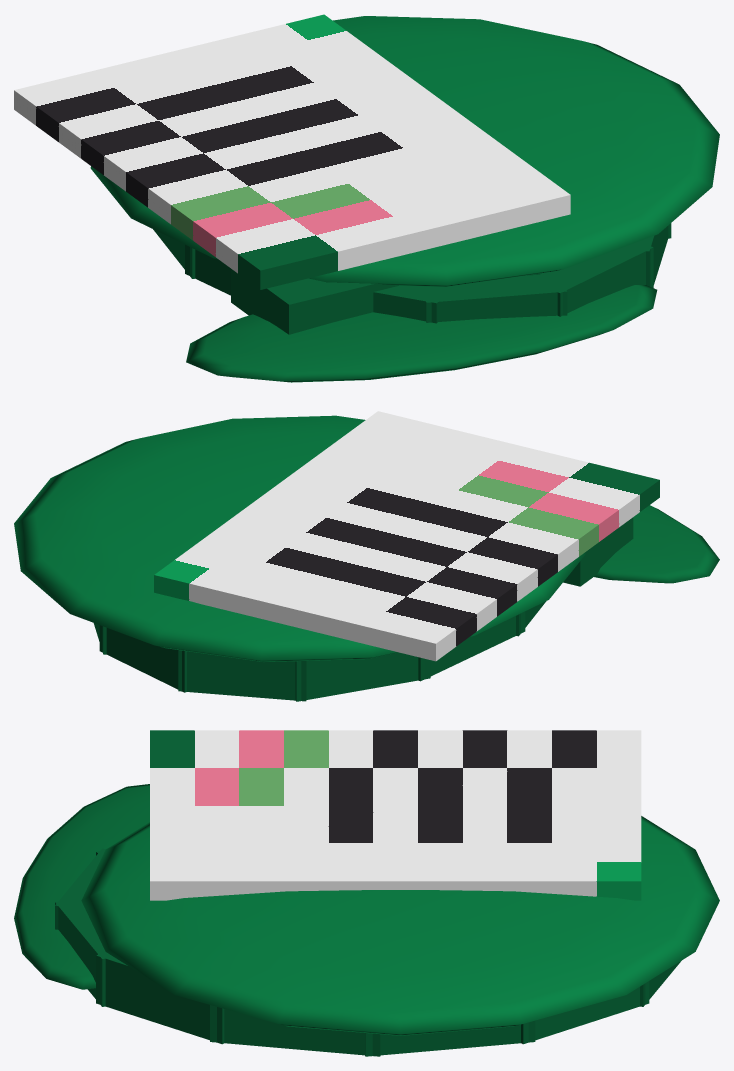
The model's file is CMU3DClothingHeadFishCapWorldCloud.glb.
3 views of the same model, one above another, from view 1: azimuth 30°, elevation 25°; view 2: azimuth 150°, elevation 25°; view 3: azimuth 270°, elevation 25° (orthographic). The views are drawn at different scales.
Visible parts, largest first — view 1: original fish-cap printed white front, fish cap continuous side crown, flattened green bill, bill connected sewn root, fish cap open underside seam facet 08, fish cap open underside seam facet 09, fish cap open underside seam facet 07, fish cap open underside seam facet 06, fish cap open underside seam facet 10, fish cap open underside seam facet 05; view 2: original fish-cap printed white front, fish cap continuous side crown, flattened green bill, fish cap open underside seam facet 03, fish cap open underside seam facet 04, fish cap open underside seam facet 02, fish cap open underside seam facet 05, bill connected sewn root; view 3: original fish-cap printed white front, fish cap continuous side crown, flattened green bill, fish cap open underside seam facet 10, fish cap open underside seam facet 11, fish cap open underside seam facet 00, fish cap open underside seam facet 01, fish cap open underside seam facet 09, fish cap open underside seam facet 08.
Part boxes in pixels (left/top/right/bottom): original fish-cap printed white front: left=14, top=14, right=570, bottom=289; fish cap continuous side crown: left=90, top=16, right=719, bottom=286; flattened green bill: left=186, top=285, right=657, bottom=382; bill connected sewn root: left=231, top=269, right=541, bottom=334; fish cap open underside seam facet 08: left=425, top=273, right=567, bottom=322; fish cap open underside seam facet 09: left=540, top=242, right=653, bottom=316; fish cap open underside seam facet 07: left=373, top=285, right=453, bottom=323; fish cap open underside seam facet 06: left=185, top=244, right=230, bottom=295; fish cap open underside seam facet 10: left=617, top=226, right=668, bottom=286; fish cap open underside seam facet 05: left=153, top=229, right=195, bottom=278; original fish-cap printed white front: left=154, top=411, right=659, bottom=661; fish cap continuous side crown: left=14, top=415, right=585, bottom=661; flattened green bill: left=594, top=505, right=719, bottom=583; fish cap open underside seam facet 03: left=178, top=650, right=306, bottom=701; fish cap open underside seam facet 04: left=295, top=652, right=430, bottom=701; fish cap open underside seam facet 02: left=99, top=625, right=186, bottom=692; fish cap open underside seam facet 05: left=418, top=611, right=525, bottom=681; bill connected sewn root: left=563, top=517, right=633, bottom=586; original fish-cap printed white front: left=150, top=730, right=641, bottom=900; fish cap continuous side crown: left=81, top=816, right=719, bottom=1035; flattened green bill: left=14, top=784, right=149, bottom=989; fish cap open underside seam facet 10: left=96, top=954, right=224, bottom=1044; fish cap open underside seam facet 11: left=210, top=1005, right=380, bottom=1056; fish cap open underside seam facet 00: left=365, top=1020, right=535, bottom=1056; fish cap open underside seam facet 01: left=521, top=981, right=649, bottom=1044; fish cap open underside seam facet 09: left=55, top=898, right=113, bottom=1006; fish cap open underside seam facet 08: left=55, top=848, right=104, bottom=929.
Size of the model in its own units: 0.4911 by 0.075 by 0.4941.
4 materials, 1 textured.
